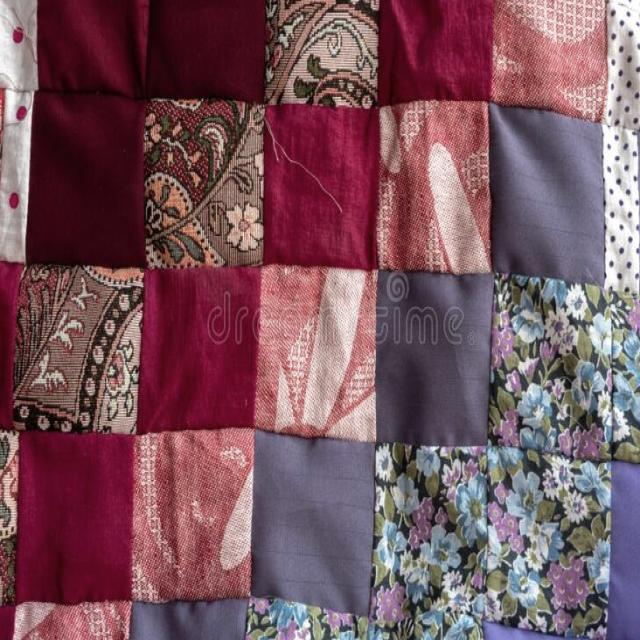clothes: (44, 35, 630, 632)
